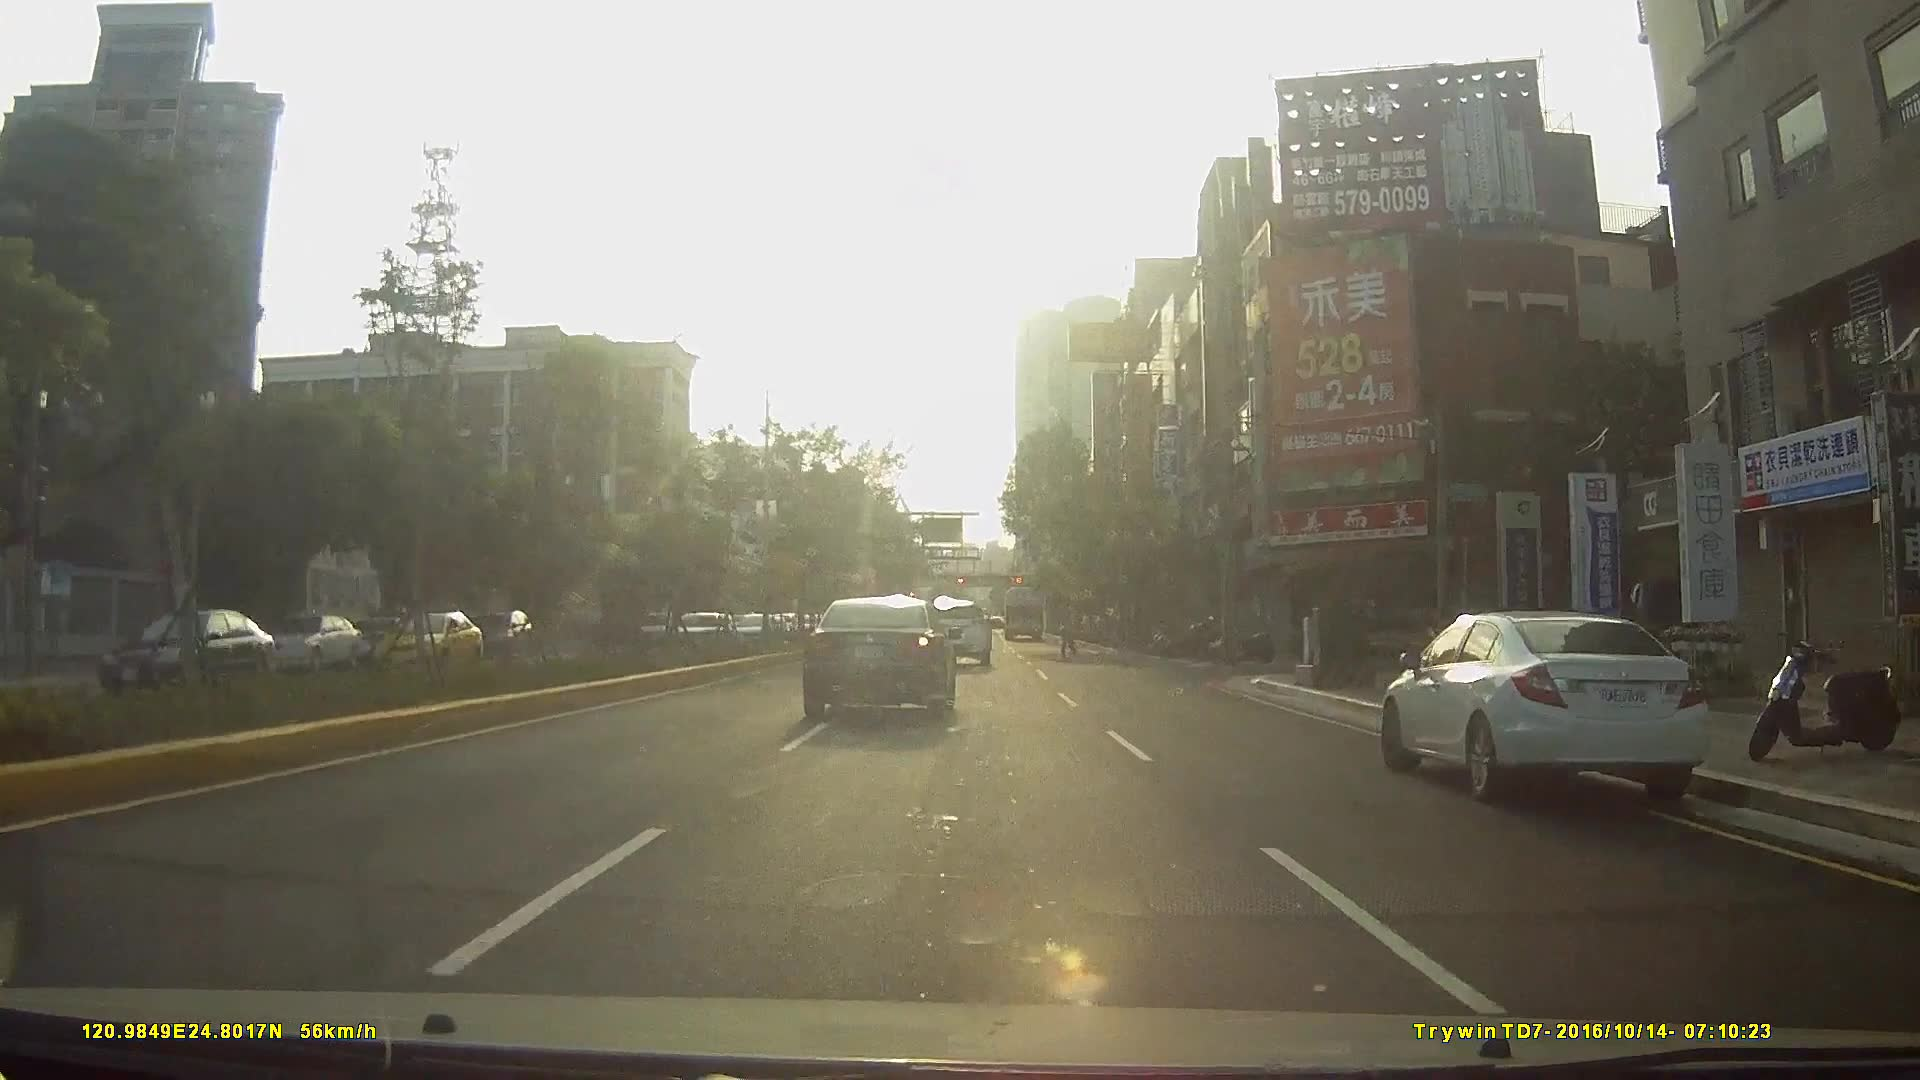vehicle: (1364, 612, 1760, 814), (800, 595, 959, 723), (82, 603, 290, 698), (365, 605, 491, 690), (243, 613, 363, 676), (916, 596, 993, 669), (343, 618, 427, 670), (456, 611, 531, 663), (665, 613, 736, 663), (1001, 587, 1044, 644), (728, 615, 774, 647), (632, 612, 671, 647)
